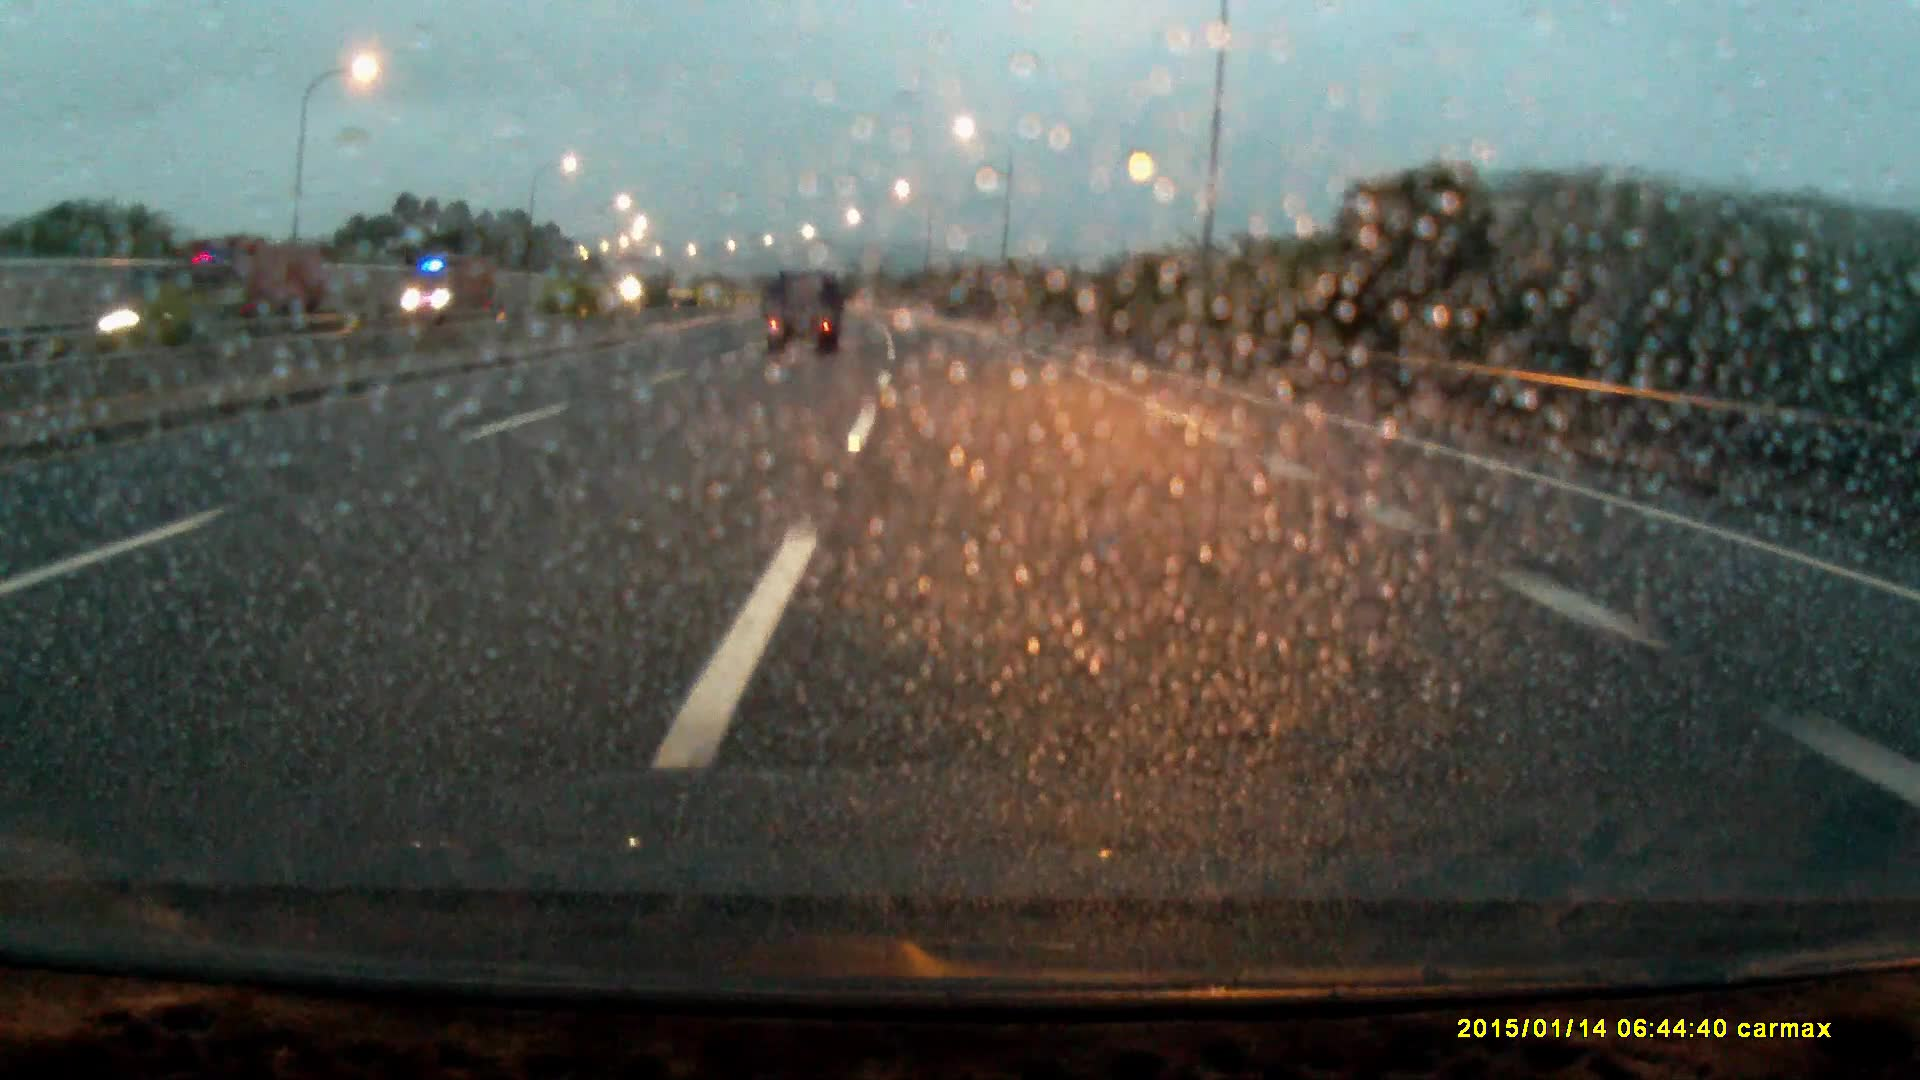vehicle: (144, 241, 319, 332), (764, 273, 843, 361), (398, 252, 491, 318)
